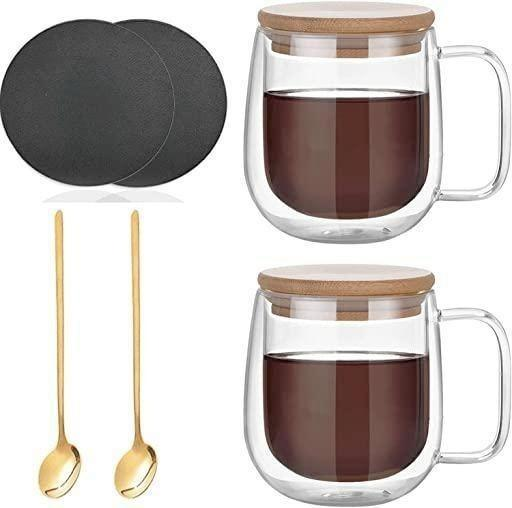glass-mug: (237, 257, 512, 508), (236, 0, 512, 245)
